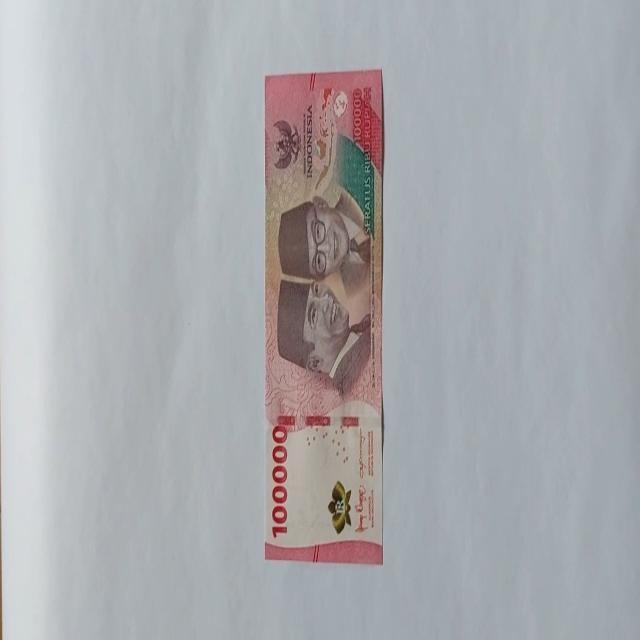seratus ribu rupiah: (263, 70, 385, 564), (276, 191, 372, 395)
